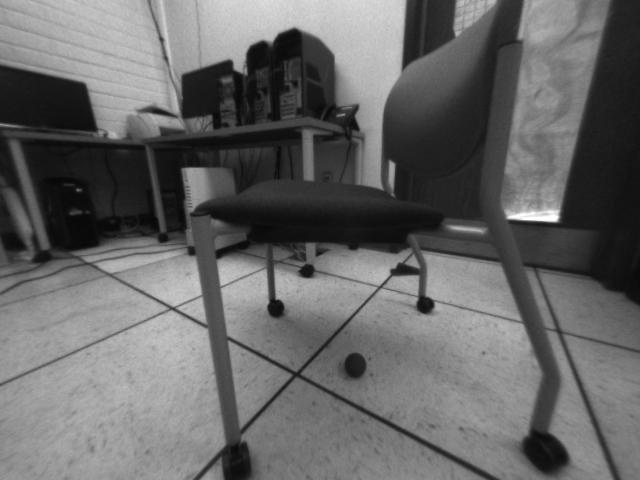dogtoy: (339, 345, 375, 385)
